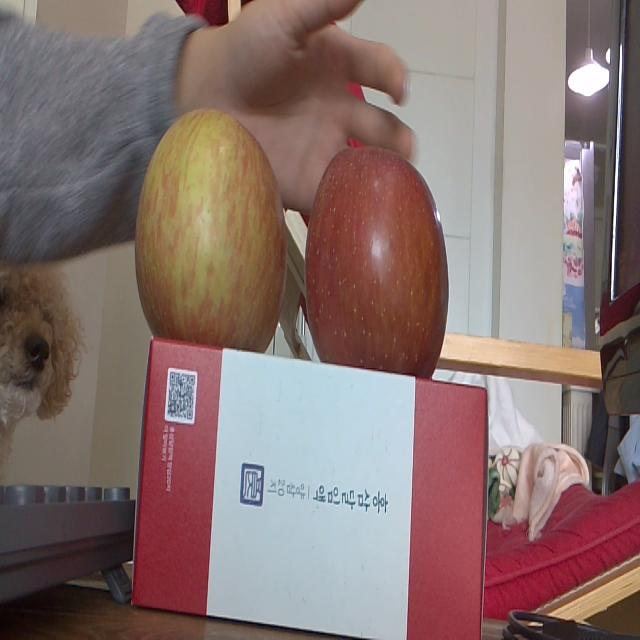apple: (135, 106, 288, 347), (306, 145, 449, 371)
